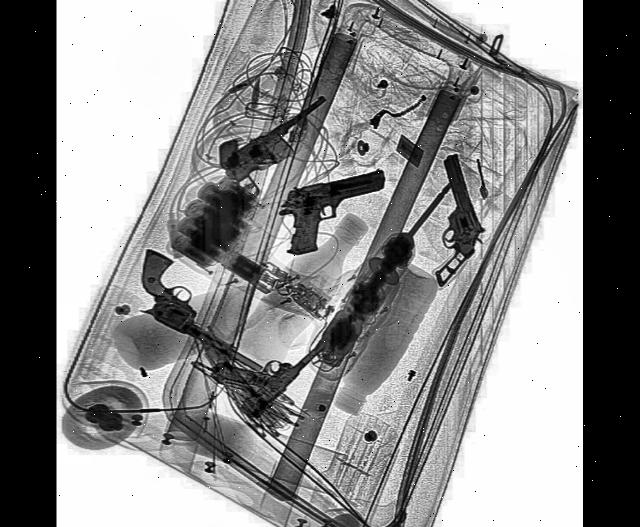Gun: (129, 245, 286, 376), (208, 286, 332, 430), (220, 92, 342, 209), (405, 146, 494, 286), (274, 162, 391, 257)
